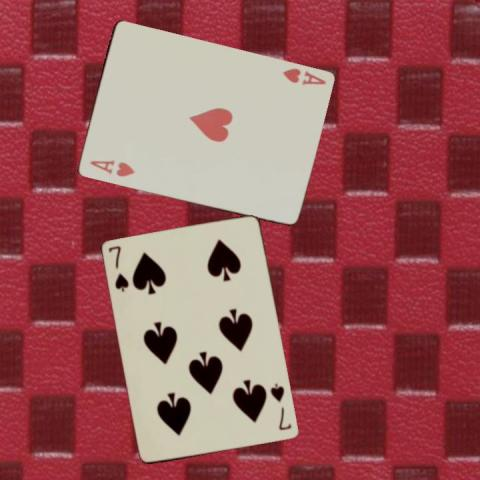7s: (268, 380, 294, 432), (106, 243, 131, 293)
Ah: (87, 157, 136, 179), (280, 65, 328, 87)
